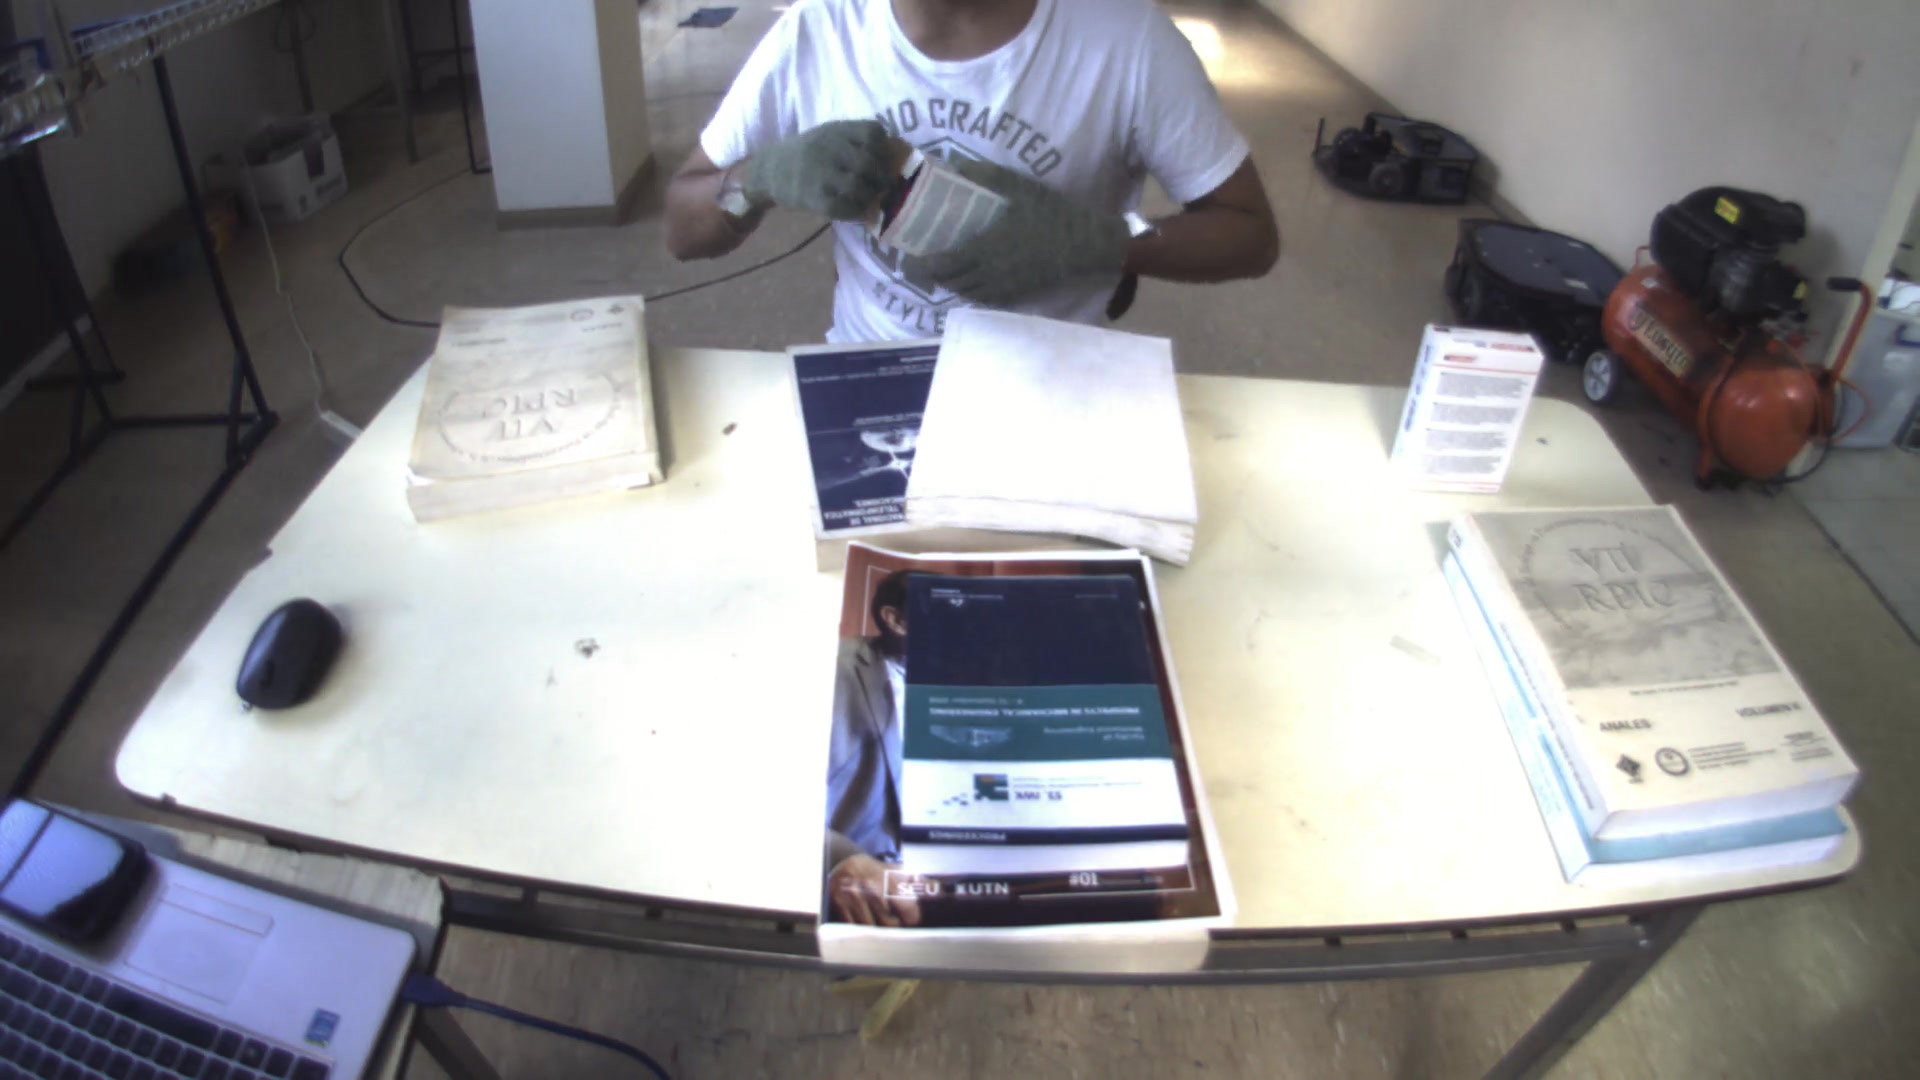hand: (890, 150, 1127, 290), (731, 109, 924, 228)
